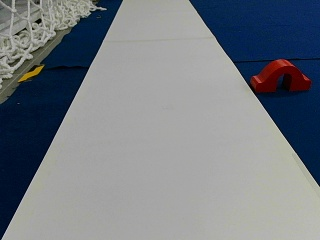bridge: (252, 60, 310, 90)
